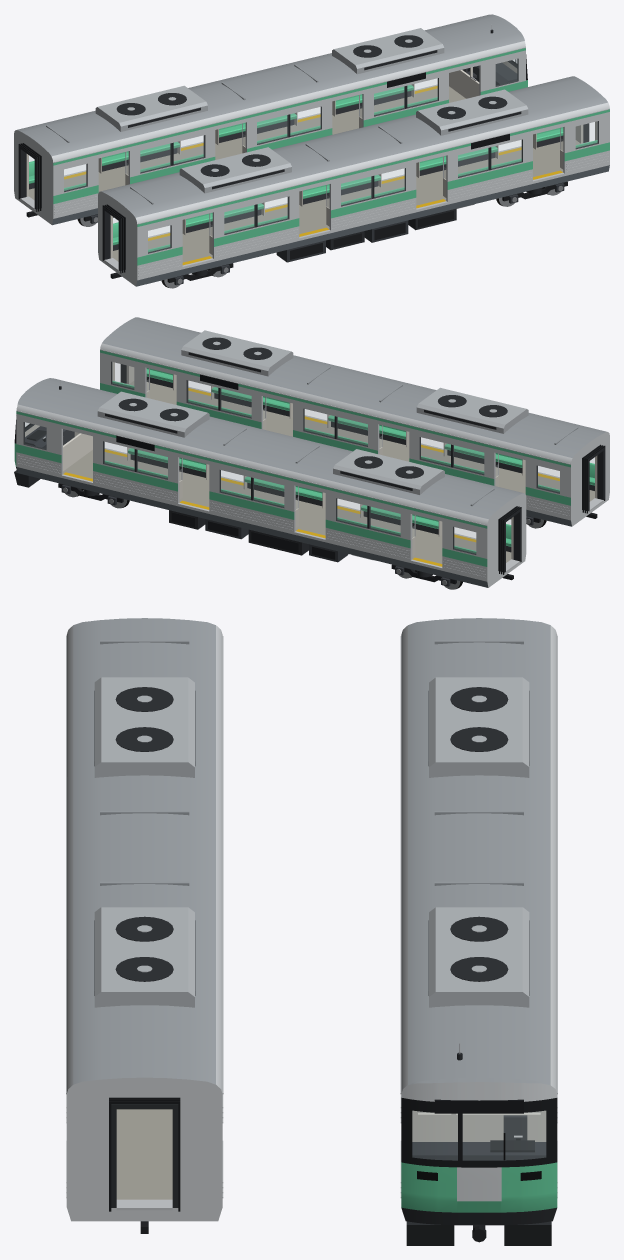
The model's file is ar-car.glb.
The picture shows the model from 3 angles, top to bottom: view 1: azimuth 30°, elevation 25°; view 2: azimuth 150°, elevation 25°; view 3: azimuth 270°, elevation 25°; orthographic projection. The views are drawn at different scales.
Visible parts, largest first — view 1: car_mid_ext, car_cab_ext, car_mid_int, car_cab_int; view 2: car_cab_ext, car_mid_ext, car_cab_int, car_mid_int; view 3: car_cab_ext, car_mid_ext, car_cab_int, car_mid_int.
Boxes of the visible parts, box(x1,y1,x2,y2) form: car_mid_ext: box(98, 76, 609, 288); car_cab_ext: box(14, 14, 527, 226); car_mid_int: box(110, 121, 597, 265); car_cab_int: box(26, 59, 517, 202); car_cab_ext: box(14, 378, 526, 589); car_mid_ext: box(100, 317, 609, 528); car_cab_int: box(25, 424, 513, 566); car_mid_int: box(112, 362, 597, 503); car_cab_ext: box(400, 618, 557, 1245); car_mid_ext: box(66, 618, 223, 1233); car_cab_int: box(412, 1110, 546, 1160); car_mid_int: box(116, 1109, 172, 1201).
Size of the model in its own units: 20.22 by 3.9 by 8.83.
